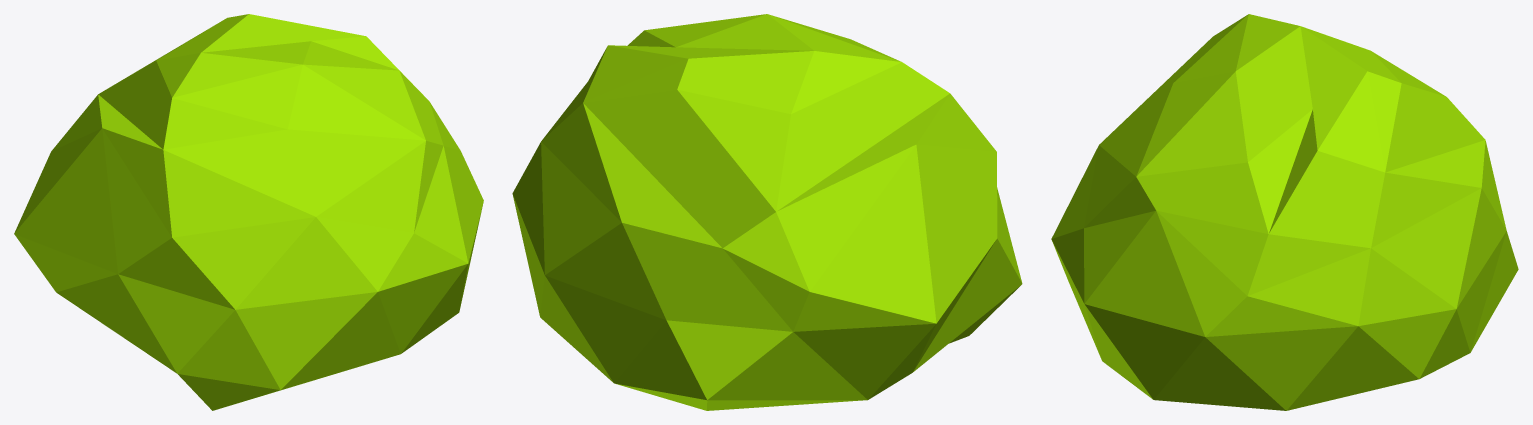
File: kleine_struik1.fbx
The picture shows the model from 3 angles, left to right: view 1: azimuth 30°, elevation 25°; view 2: azimuth 150°, elevation 25°; view 3: azimuth 270°, elevation 25°; orthographic projection. The views are drawn at different scales.
Visible parts, largest first — view 1: Icosphere; view 2: Icosphere; view 3: Icosphere.
Part boxes in pixels (x1=…): Icosphere: x1=14, y1=14, x2=483, y2=410; Icosphere: x1=512, y1=14, x2=1022, y2=410; Icosphere: x1=1051, y1=14, x2=1518, y2=410.
Size of the model in its own units: 96.04 by 70.4 by 93.97.
